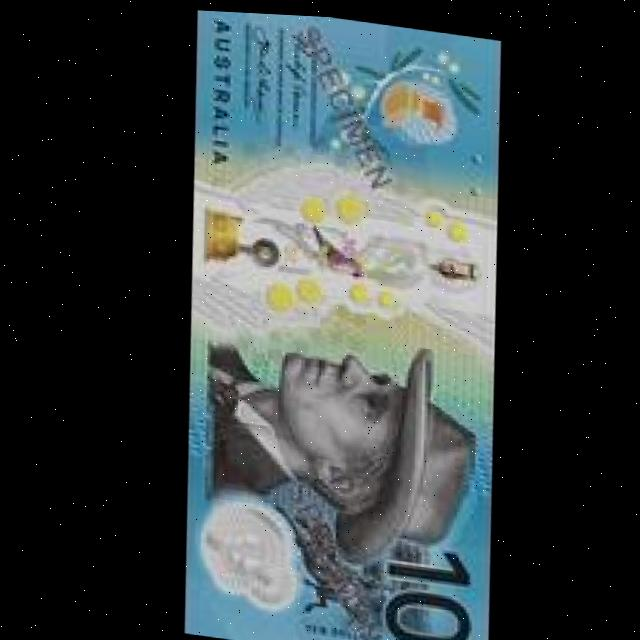banknote: (138, 6, 538, 640)
